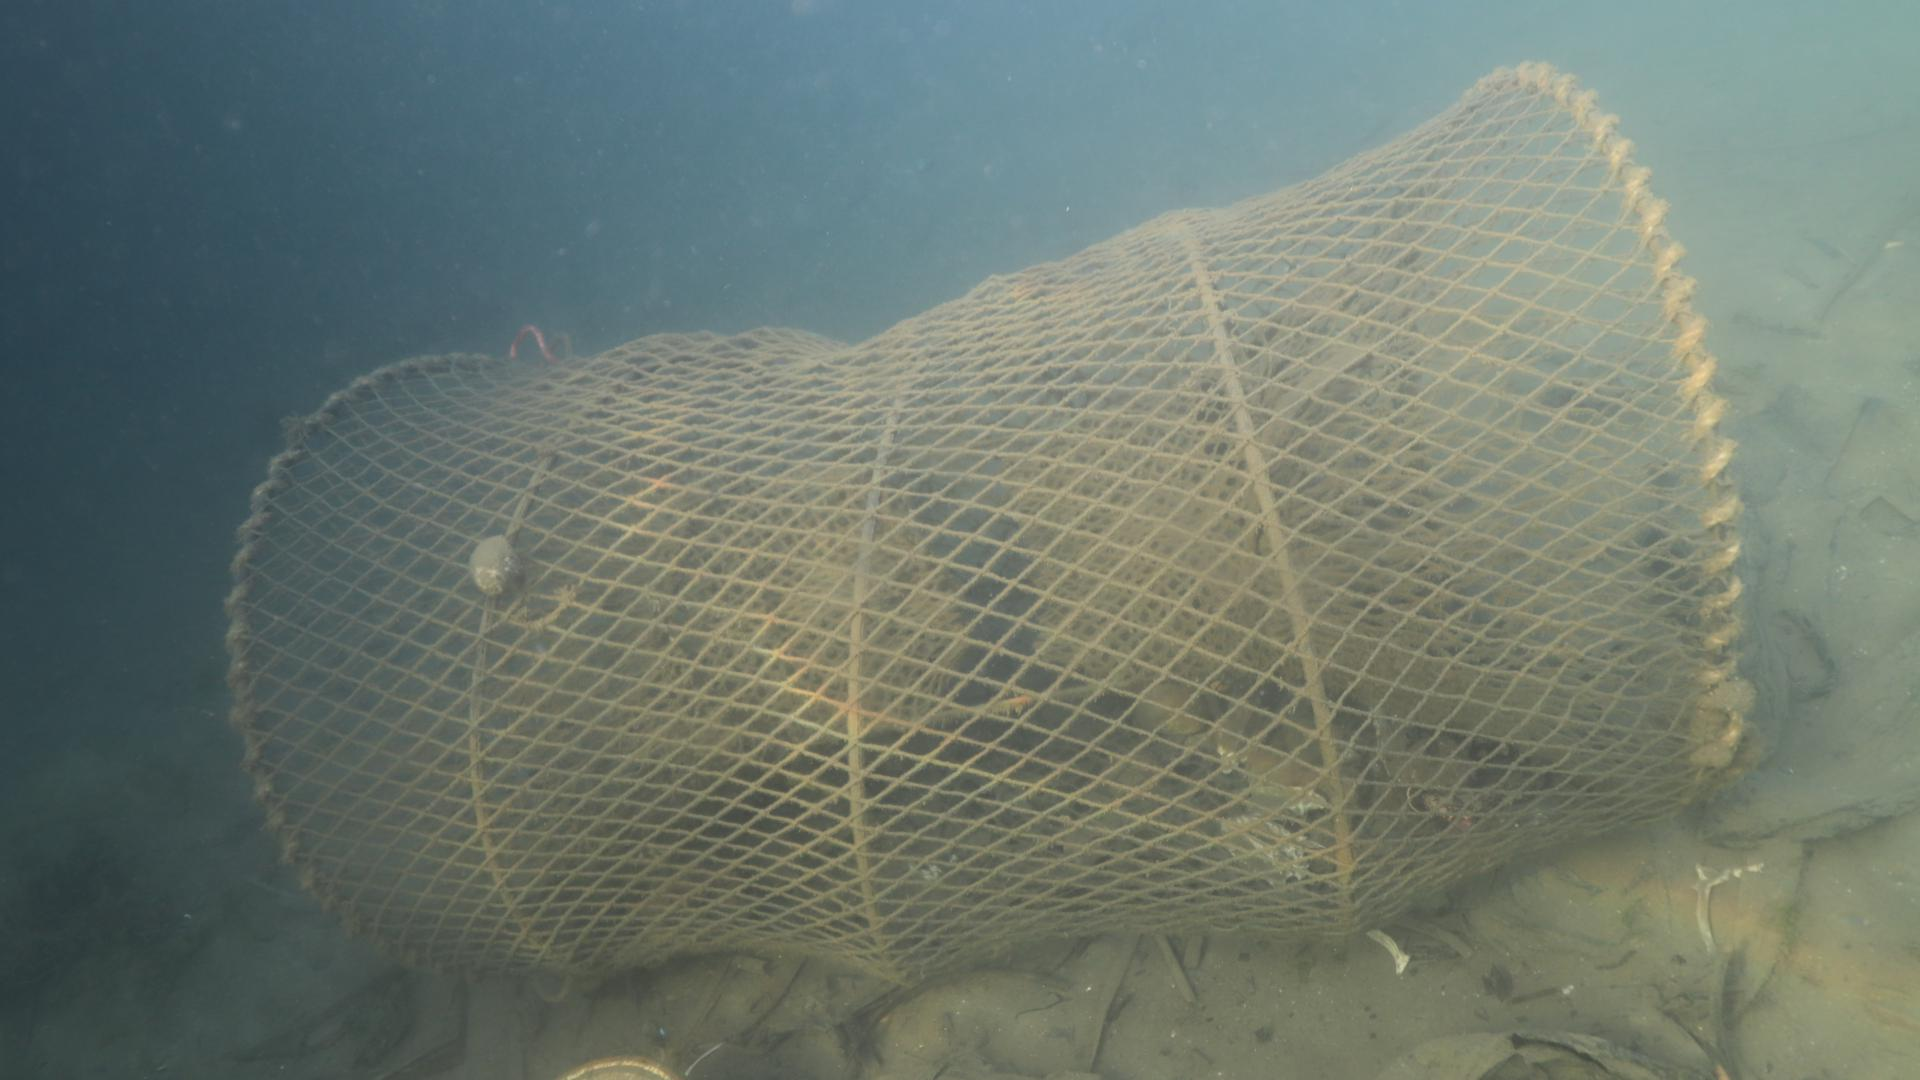spring fish trap: (214, 51, 1746, 1025)
